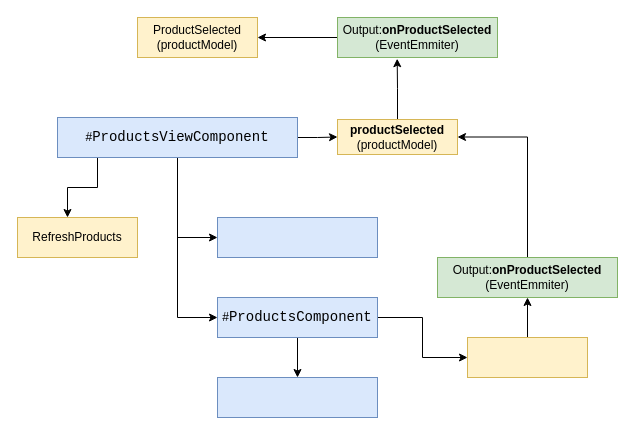
The diagram is 635 pixels wide and 435 high, and some of its shapes have lost their labels. The centre of each missing label's shape, as x and y in pixels:
"# ProductComponent" belongs at [297,397].
"#CategoryPanelComponent" belongs at [297,237].
"selectProduct (productID)" belongs at [527,357].
